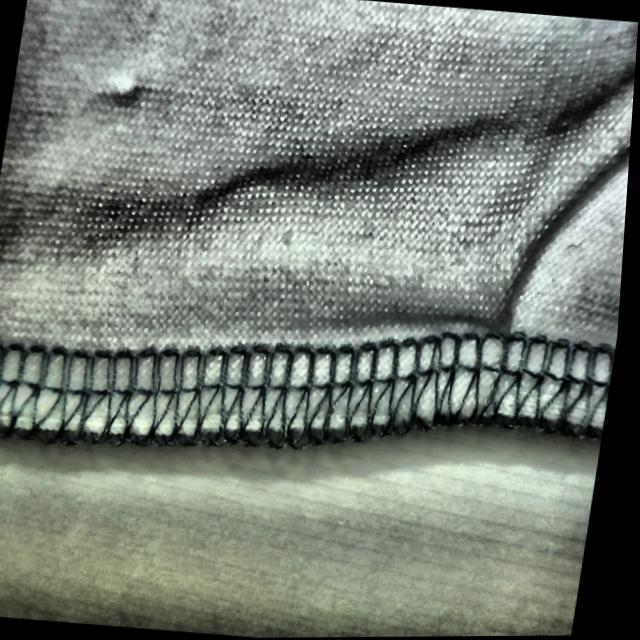seam: (377, 214, 571, 482)
